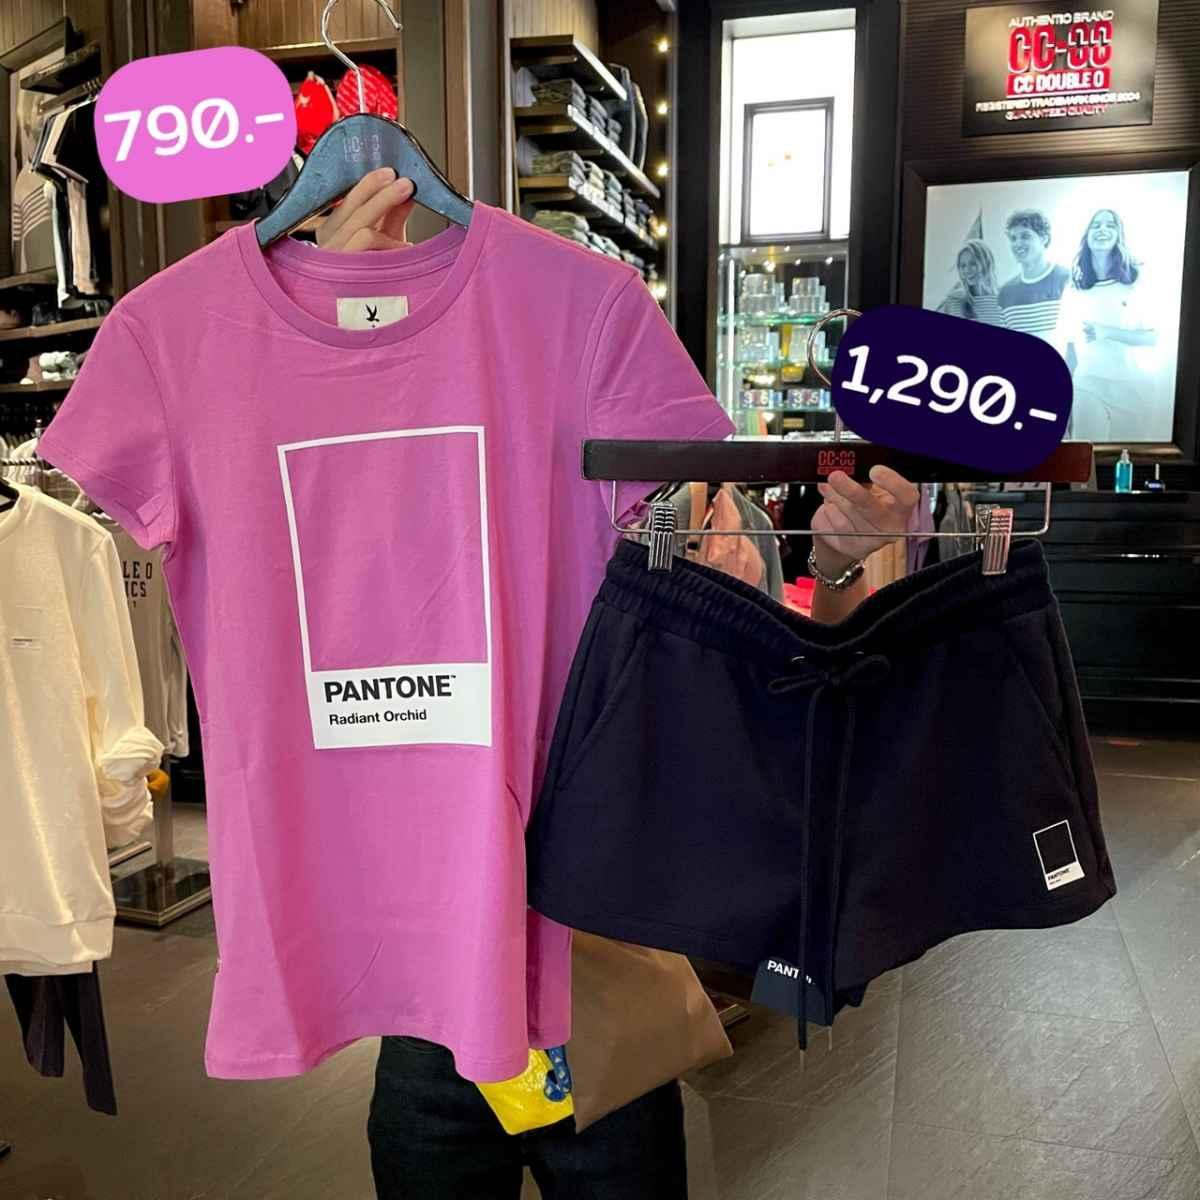Tshirt: (41, 175, 720, 1098)
short: (513, 524, 1158, 1040)
